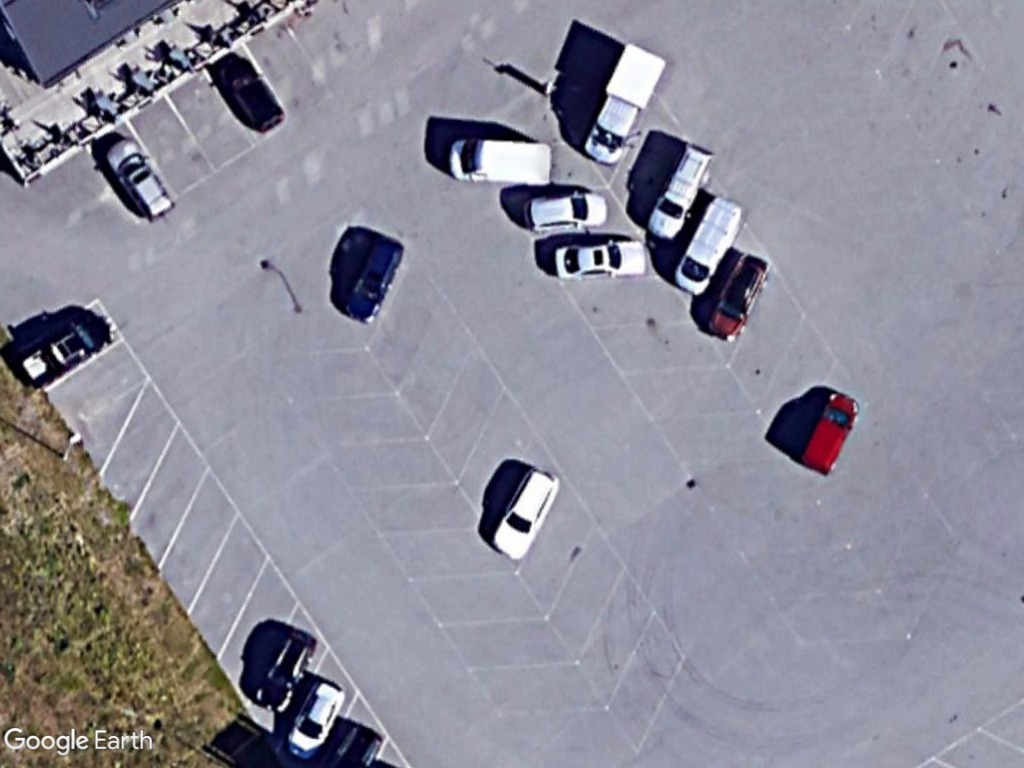car: (484, 468, 562, 563), (702, 253, 777, 345), (104, 135, 178, 225), (338, 233, 408, 325), (251, 630, 319, 718), (281, 678, 347, 764), (218, 53, 288, 134), (797, 389, 860, 476), (550, 234, 651, 286), (521, 189, 610, 236)
truck: (581, 45, 669, 170)
van: (671, 197, 746, 294), (644, 139, 714, 240), (448, 135, 556, 189)
